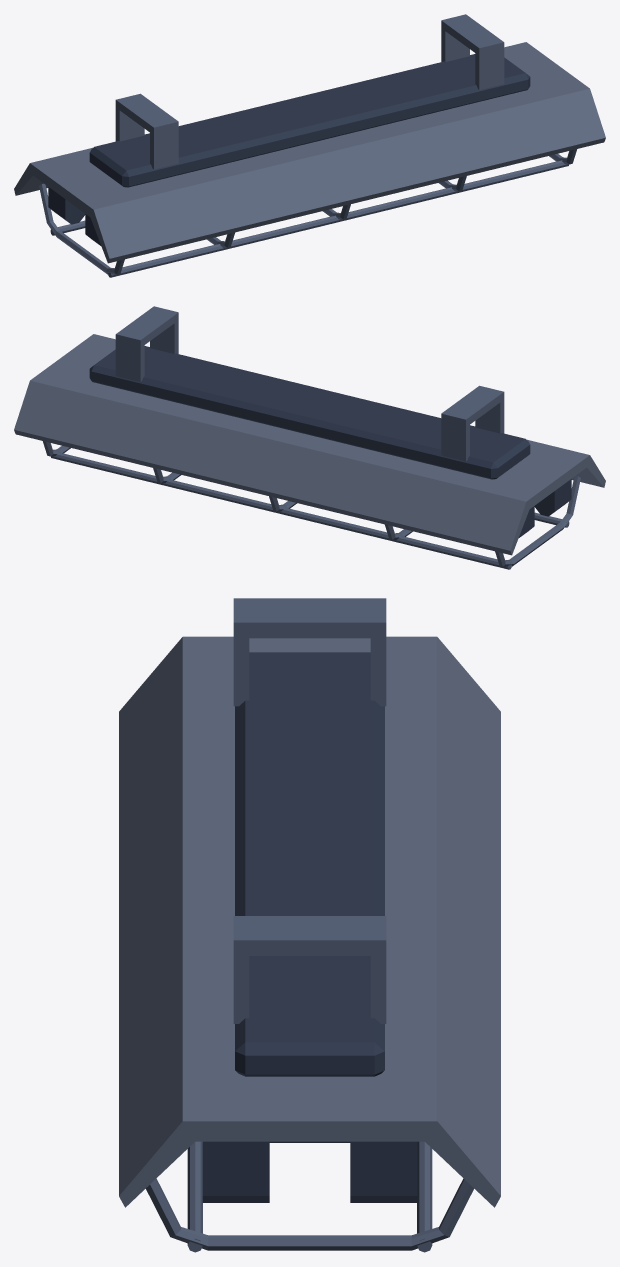
Rendered from wh_ceiling_lamp.glb.
The picture shows the model from 3 angles, top to bottom: view 1: azimuth 30°, elevation 25°; view 2: azimuth 150°, elevation 25°; view 3: azimuth 270°, elevation 25°; orthographic projection. The views are drawn at different scales.
Visible parts, largest first — view 1: reflector, driver, guard_spine; view 2: reflector, driver, guard_spine; view 3: reflector, driver, guard_spine.
Boxes of the visible parts, x1,y1,x2,y2 form: reflector: (14,42,605,263); driver: (48,54,530,245); guard_spine: (39,14,576,277); reflector: (14,334,605,555); driver: (89,346,571,537); guard_spine: (43,306,580,569); reflector: (119,636,500,1207); driver: (202,652,417,1202); guard_spine: (145,598,474,1252).
Size of the model in its own units: 1.8 by 0.45 by 0.6.
